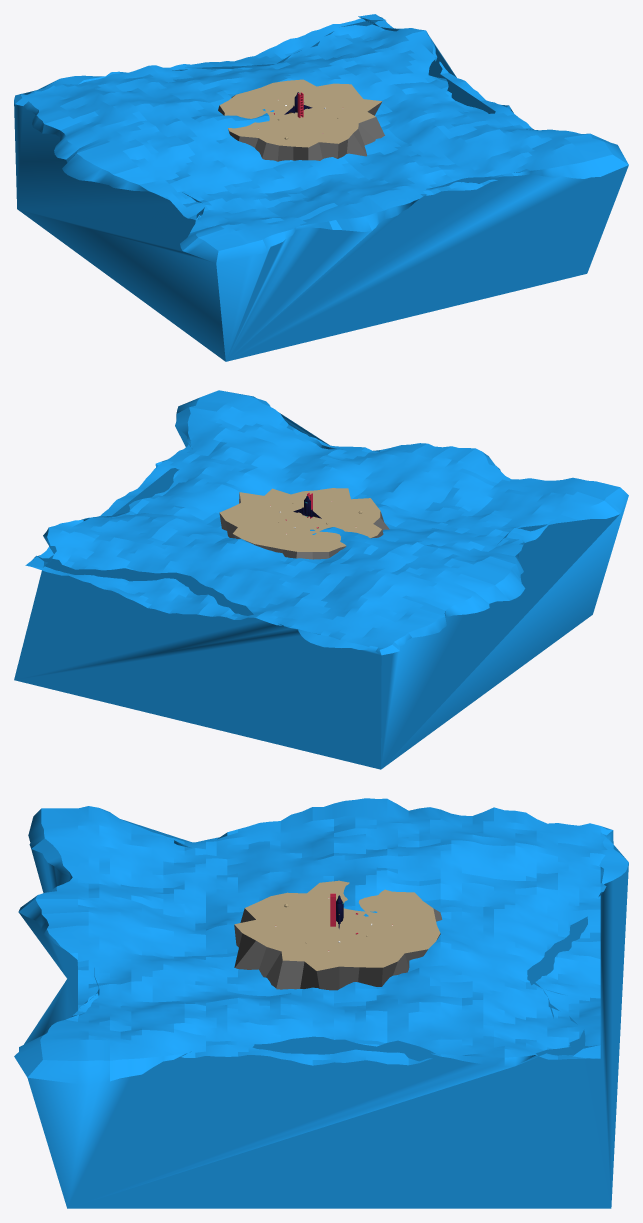
Rendered from fuseeNoanim.glb.
The picture shows the model from 3 angles, top to bottom: view 1: azimuth 30°, elevation 25°; view 2: azimuth 150°, elevation 25°; view 3: azimuth 270°, elevation 25°; orthographic projection. The views are drawn at different scales.
Visible parts, largest first — view 1: waterLowPoly, rocher de decolage; view 2: waterLowPoly, rocher de decolage; view 3: waterLowPoly, rocher de decolage.
Boxes of the visible parts, <box> form: waterLowPoly: <box>14,14,628,361</box>; rocher de decolage: <box>218,79,384,161</box>; waterLowPoly: <box>14,390,628,769</box>; rocher de decolage: <box>219,488,389,559</box>; waterLowPoly: <box>14,798,628,1208</box>; rocher de decolage: <box>234,880,442,990</box>.
Bounding box in the file's own units: 245 × 79.62 × 226.
